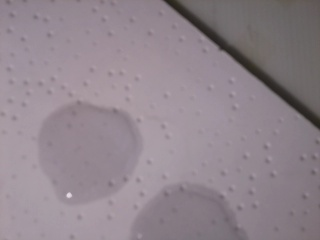Water_detected: (52, 115, 132, 185), (151, 198, 212, 239)
